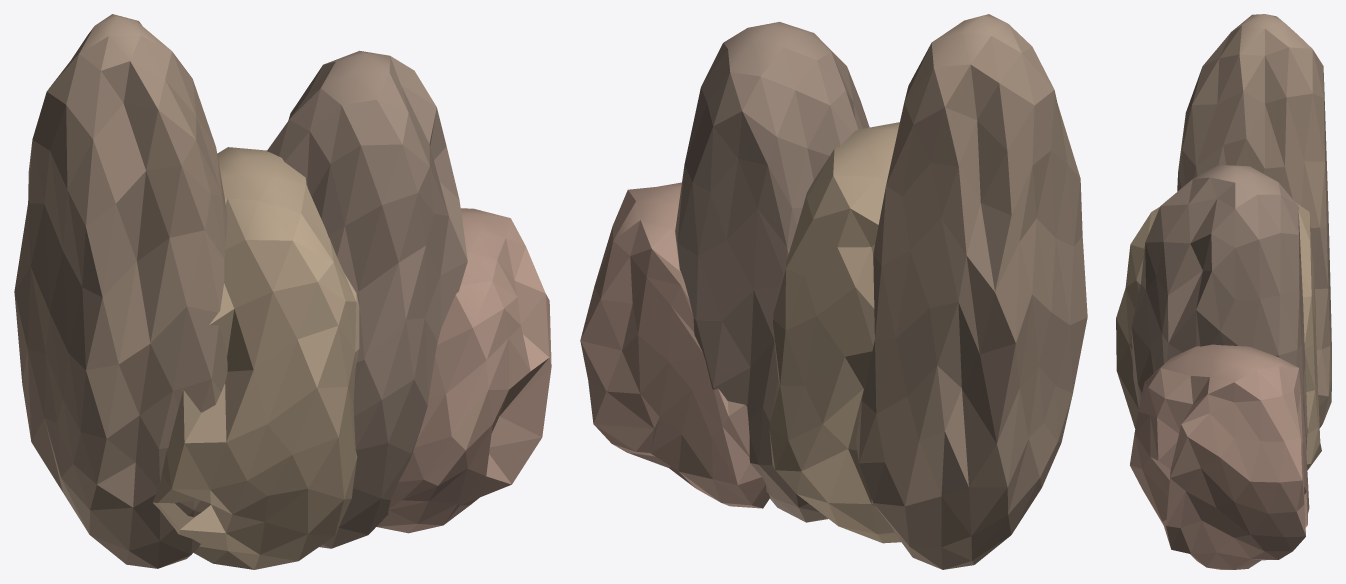
Rendered from Aiguille_5.fbx.
3 renders of one model, left to right at view 1: azimuth 30°, elevation 25°; view 2: azimuth 150°, elevation 25°; view 3: azimuth 270°, elevation 25°, orthographic. The views are drawn at different scales.
Parts seen in each view (by area): view 1: Aiguille_5; view 2: Aiguille_5; view 3: Aiguille_5.
Boxes of the visible parts, <box> form: Aiguille_5: <box>14,14,551,569</box>; Aiguille_5: <box>580,14,1087,569</box>; Aiguille_5: <box>1116,14,1331,569</box>.
Bounding box in the file's own units: 266 × 314 × 138.
